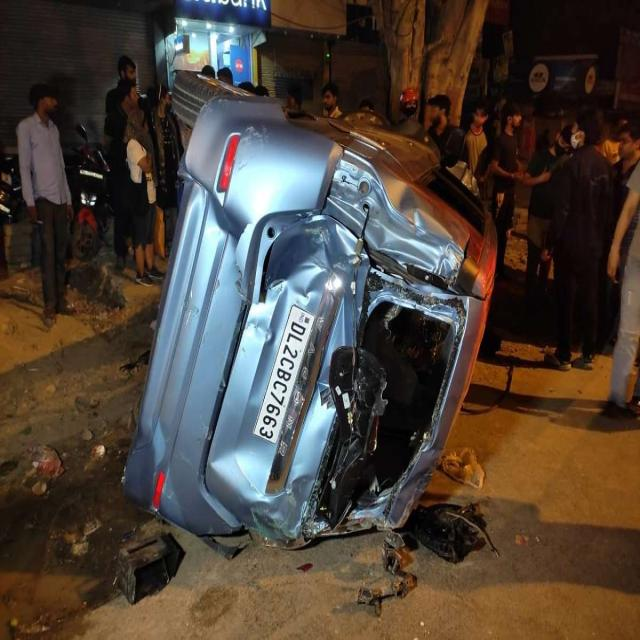accident: (125, 71, 495, 547)
